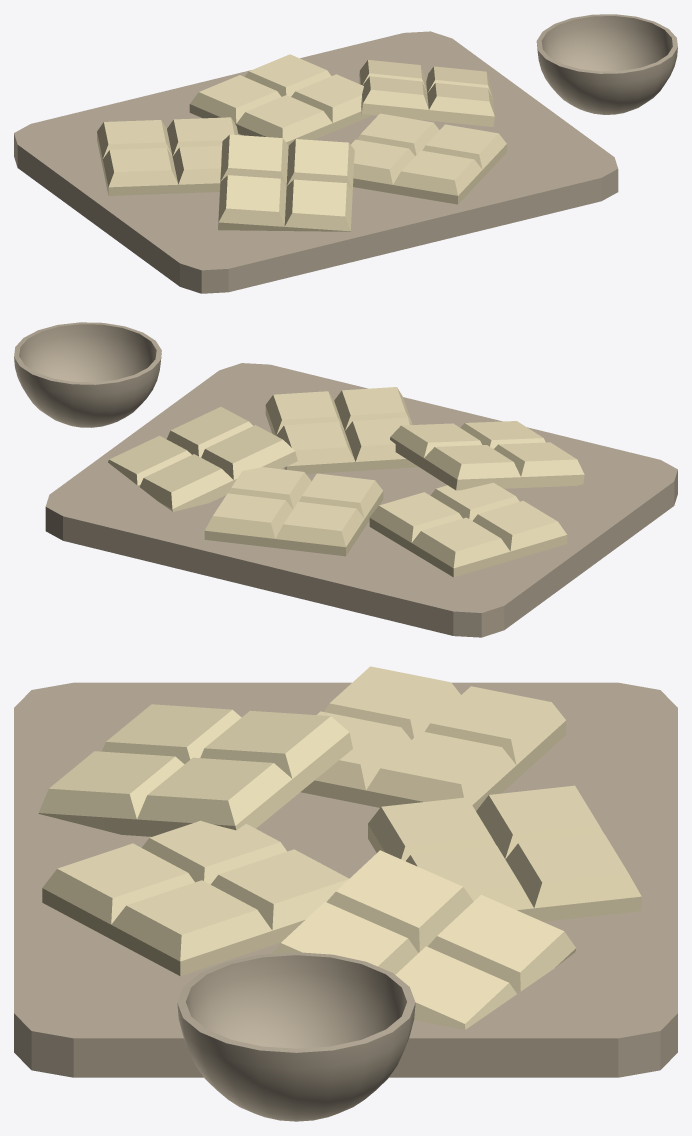
The model's file is choco_1.fbx.
The picture shows the model from 3 angles, top to bottom: view 1: azimuth 30°, elevation 25°; view 2: azimuth 150°, elevation 25°; view 3: azimuth 270°, elevation 25°; orthographic projection. The views are drawn at different scales.
Parts seen in each view (by area): view 1: pCube552, polySurface511, pSphere1, polySurface507, polySurface508, polySurface506, polySurface510; view 2: pCube552, pSphere1, polySurface506, polySurface508, polySurface510, polySurface507, polySurface511; view 3: pCube552, pSphere1, polySurface507, polySurface511, polySurface510, polySurface506, polySurface508.
Part boxes in pixels (x1,y1,x2,y2): pCube552: (14, 31, 618, 293); polySurface511: (218, 134, 354, 231); pSphere1: (536, 14, 677, 114); polySurface507: (351, 113, 506, 204); polySurface508: (189, 54, 372, 145); polySurface506: (97, 117, 238, 195); polySurface510: (359, 60, 494, 126); pCube552: (45, 363, 677, 637); pSphere1: (14, 322, 161, 427); polySurface506: (369, 482, 567, 577); polySurface508: (204, 467, 383, 556); polySurface510: (108, 407, 297, 511); polySurface507: (265, 387, 418, 474); polySurface511: (390, 421, 584, 490); pCube552: (14, 682, 677, 1077); pSphere1: (177, 952, 415, 1121); polySurface507: (42, 820, 348, 976); polySurface511: (38, 704, 352, 836); polySurface510: (271, 850, 575, 1029); polySurface506: (300, 666, 566, 810); polySurface508: (368, 785, 641, 921).
Bounding box in the file's own units: 0.8054 × 0.1026 × 0.4973.
